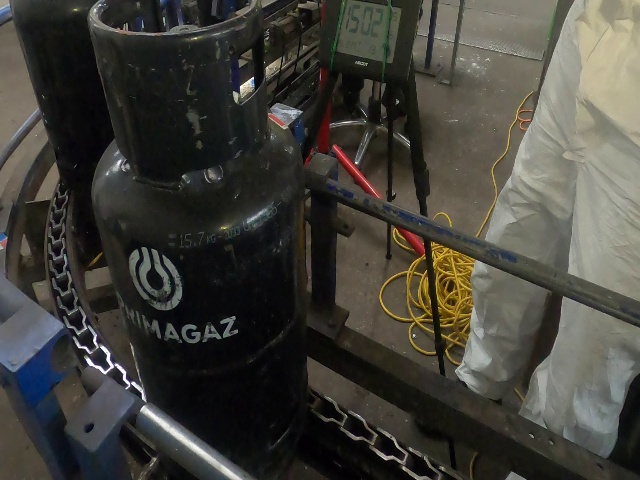gas_bottle: (7, 4, 640, 480)
